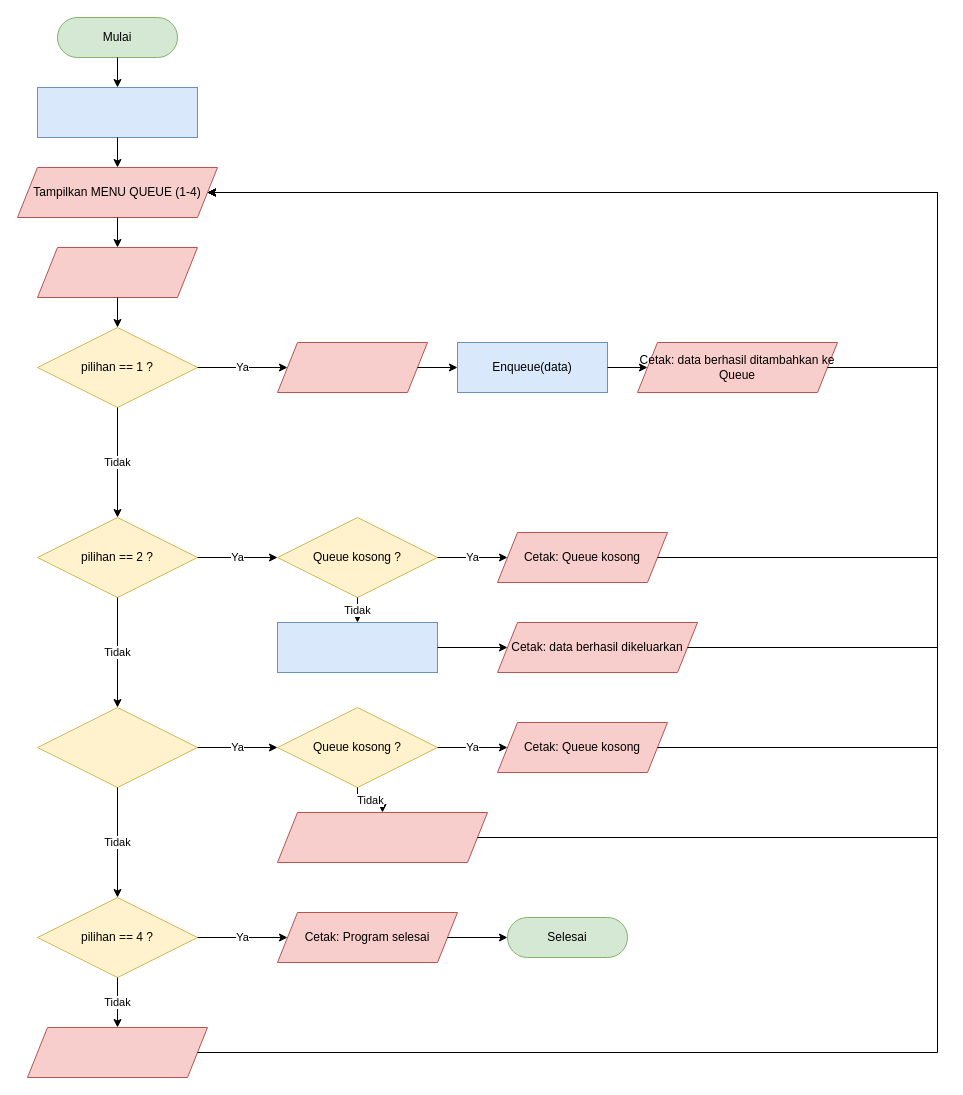
The diagram is 963 pixels wide and 1095 high, and some of its shapes have lost their labels. The centre of each missing label's shape, as x and y in pixels:
Buat Queue kosong: [117,112]
Cetak isi Queue dari front ke rear: [382,837]
Cetak: Pilihan tidak valid: [117,1052]
data = Dequeue(): [357,647]
Input data: [352,367]
Input pilihan menu: [117,272]
pilihan == 3 ?: [117,747]
